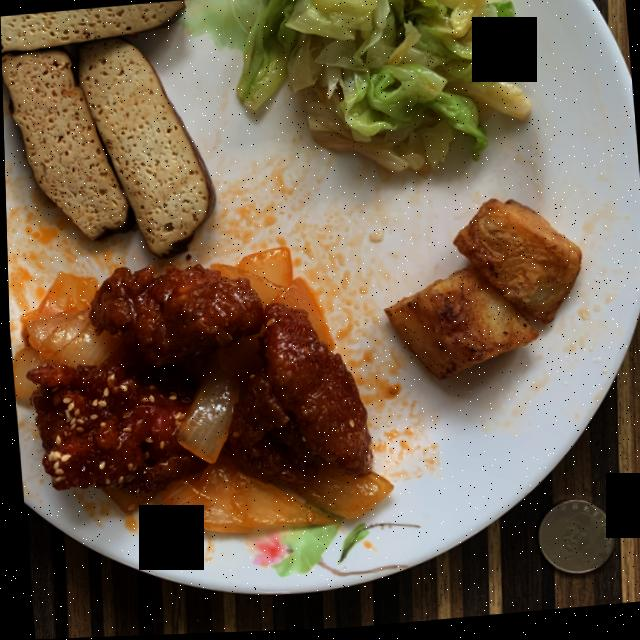cabbage: (237, 0, 531, 179)
coin: (535, 504, 611, 579)
firm tofu: (0, 1, 214, 259)
fried potato: (383, 203, 580, 383)
